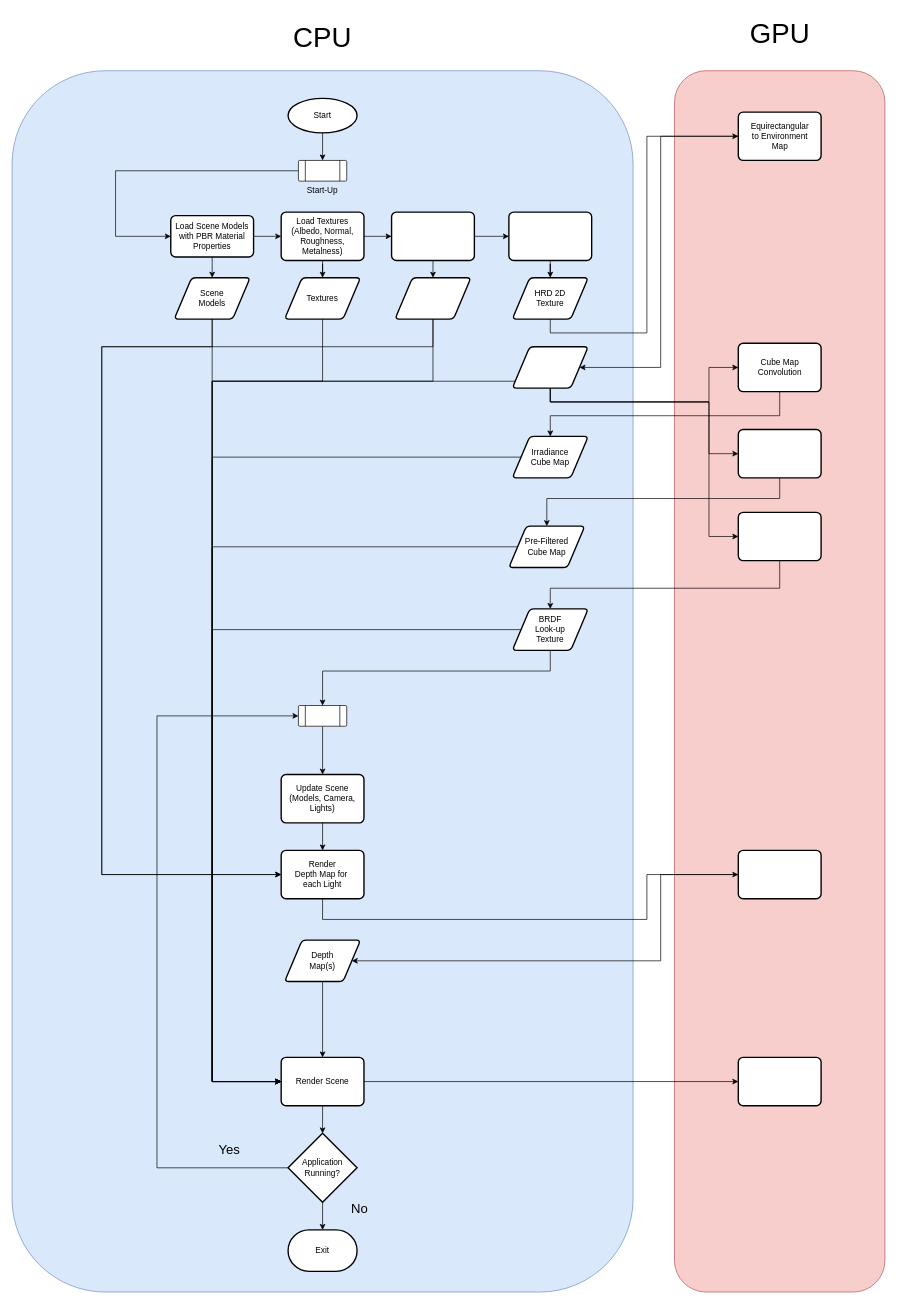
This 897x1304 diagram has some shape labels left out. Each missing label, with the centre of its shape:
"BDRF Convolution" goes at (x=779, y=536).
"Capture Depth Map" goes at (x=779, y=874).
"Environment Cube Map" goes at (x=550, y=367).
"Load Environment Map" goes at (x=550, y=236).
"Load Lights (Point & Direct)" goes at (x=433, y=236).
"PBR Render Pipeline (Including Shadow Mapping and IBR)" goes at (x=779, y=1081).
"Point & Direct Lights" goes at (x=432, y=298).
"Pre-Filter Cube Map" goes at (x=779, y=453).
"Render Loop" goes at (x=322, y=715).
